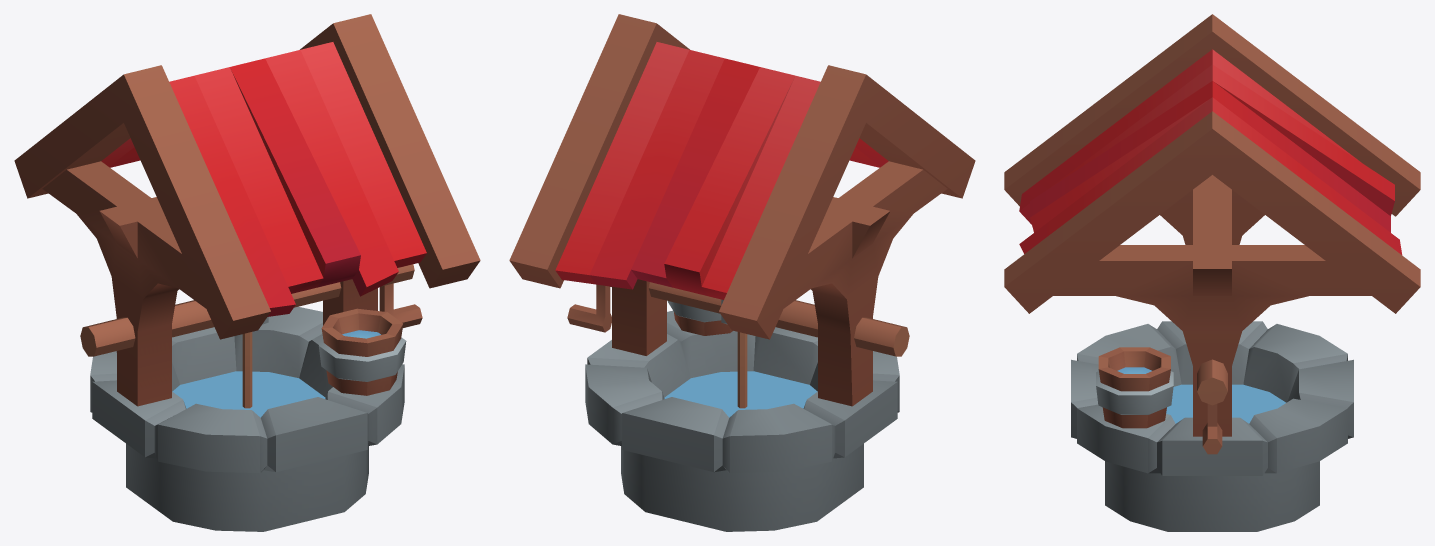
File: well.glb
3 renders of one model, left to right at view 1: azimuth 30°, elevation 25°; view 2: azimuth 150°, elevation 25°; view 3: azimuth 270°, elevation 25°, orthographic. The views are drawn at different scales.
Visible parts, largest first — view 1: well; view 2: well; view 3: well.
Part boxes in pixels (x1,y1,x2,y2): well: [14, 14, 480, 531]; well: [509, 14, 975, 531]; well: [1004, 14, 1420, 531].
Bounding box in the file's own units: 0.3259 × 0.413 × 0.3754.
1 material, 1 textured.
